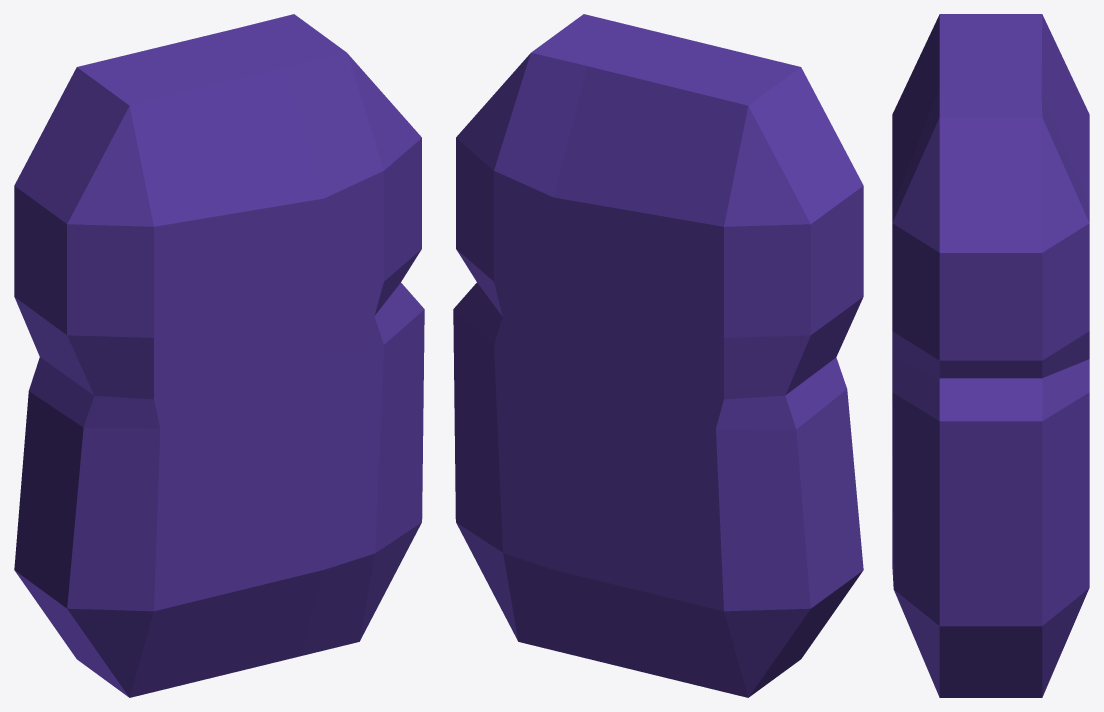
Rendered from Crystal1_Damaged.glb.
3 views of the same model, side by side, from view 1: azimuth 30°, elevation 25°; view 2: azimuth 150°, elevation 25°; view 3: azimuth 270°, elevation 25° (orthographic). The views are drawn at different scales.
Visible parts, largest first — view 1: Crystal1_Damaged; view 2: Crystal1_Damaged; view 3: Crystal1_Damaged.
Part boxes in pixels (left/top/right/bottom): Crystal1_Damaged: left=14, top=14, right=424, bottom=697; Crystal1_Damaged: left=453, top=14, right=863, bottom=697; Crystal1_Damaged: left=892, top=14, right=1089, bottom=697.
Size of the model in its own units: 0.1236 by 0.1957 by 0.0608.
